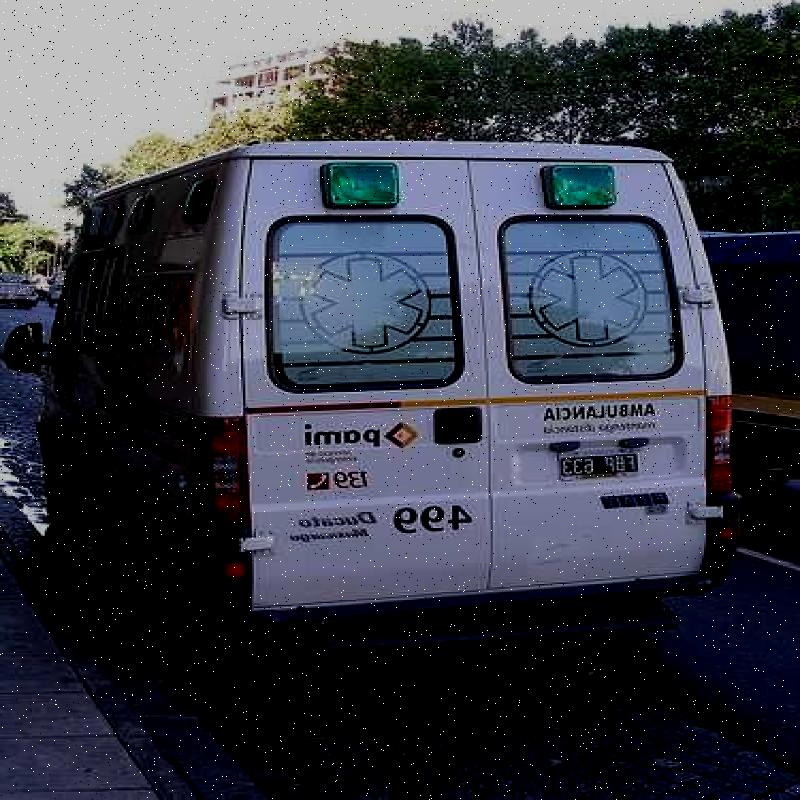AmbulanceSiren: (313, 155, 408, 221), (535, 164, 622, 217)
